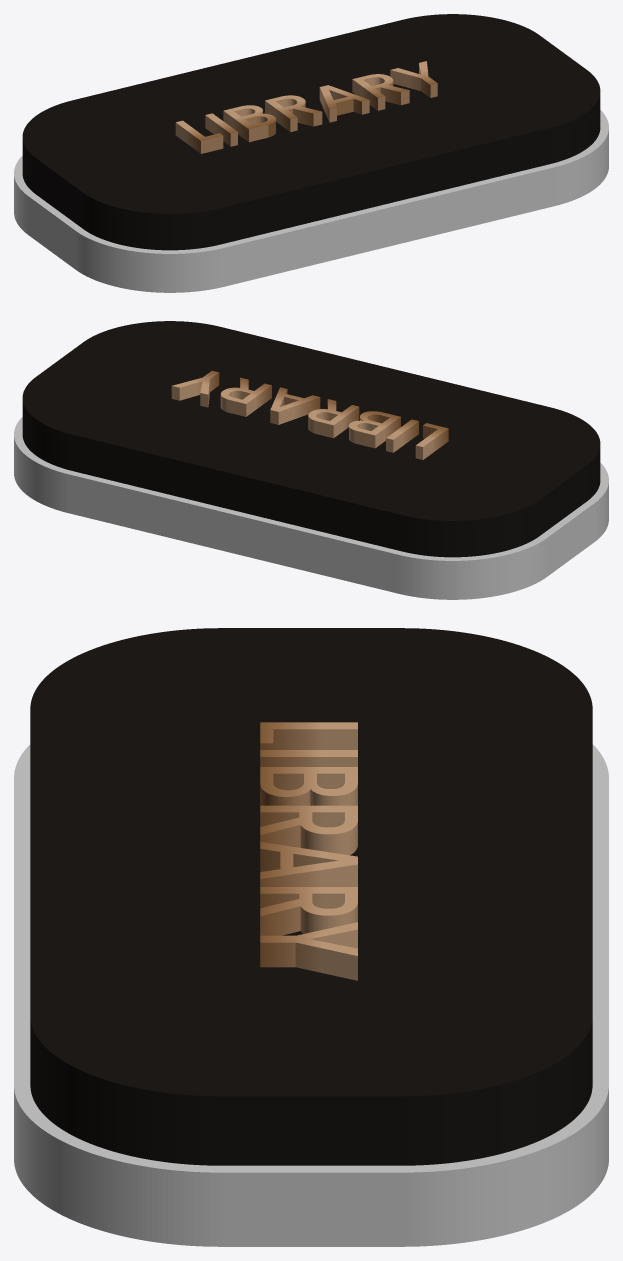
Rendered from Library.fbx.
The picture shows the model from 3 angles, top to bottom: view 1: azimuth 30°, elevation 25°; view 2: azimuth 150°, elevation 25°; view 3: azimuth 270°, elevation 25°; orthographic projection. The views are drawn at different scales.
Visible parts, largest first — view 1: Rectangle, Rectangle - Stroke, Path; view 2: Rectangle, Rectangle - Stroke, Path; view 3: Rectangle, Rectangle - Stroke, Path.
Part boxes in pixels (x1=…): Rectangle: x1=22, y1=14, x2=600, y2=250; Rectangle - Stroke: x1=14, y1=110, x2=608, y2=292; Path: x1=175, y1=61, x2=437, y2=153; Rectangle: x1=22, y1=321, x2=600, y2=557; Rectangle - Stroke: x1=14, y1=417, x2=608, y2=599; Path: x1=171, y1=370, x2=448, y2=459; Rectangle: x1=30, y1=628, x2=592, y2=1165; Rectangle - Stroke: x1=14, y1=744, x2=608, y2=1246; Path: x1=260, y1=722, x2=357, y2=980.
Size of the model in its own units: 62.7 by 32.7 by 10.2.
